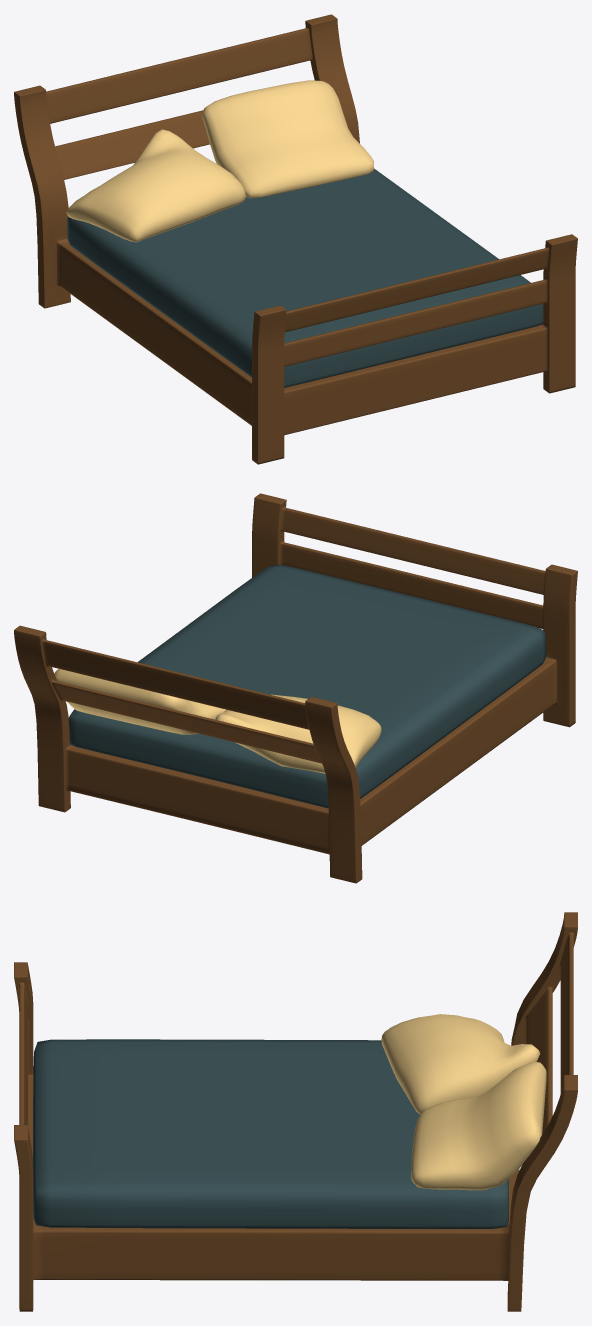
The model's file is 053_054_bed.glb.
The picture shows the model from 3 angles, top to bottom: view 1: azimuth 30°, elevation 25°; view 2: azimuth 150°, elevation 25°; view 3: azimuth 270°, elevation 25°; orthographic projection. The views are drawn at different scales.
Parts seen in each view (by area): view 1: bed, matress, pillow right, pillow left; view 2: bed, matress, pillow left, pillow right; view 3: matress, bed, pillow right, pillow left.
Part boxes in pixels (bbox=[...]): bed: bbox=[14, 14, 577, 464]; matress: bbox=[67, 168, 543, 387]; pillow right: bbox=[202, 80, 373, 198]; pillow left: bbox=[66, 129, 245, 242]; bed: bbox=[14, 493, 577, 883]; matress: bbox=[68, 564, 546, 808]; pillow left: bbox=[215, 694, 381, 773]; pillow right: bbox=[54, 669, 225, 734]; matress: bbox=[33, 1039, 508, 1228]; bed: bbox=[14, 912, 577, 1311]; pillow right: bbox=[411, 1062, 546, 1190]; pillow left: bbox=[381, 1014, 540, 1114].
Bounding box in the file's own units: 2.01 × 1.17 × 2.7.
